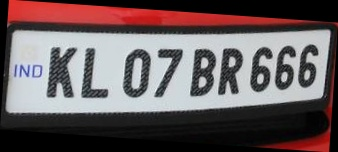character: (45, 45, 77, 100), (152, 46, 184, 98), (79, 46, 109, 98), (121, 47, 151, 97), (189, 46, 216, 97), (216, 46, 244, 95), (273, 43, 297, 91), (249, 46, 272, 92), (297, 42, 317, 88)
